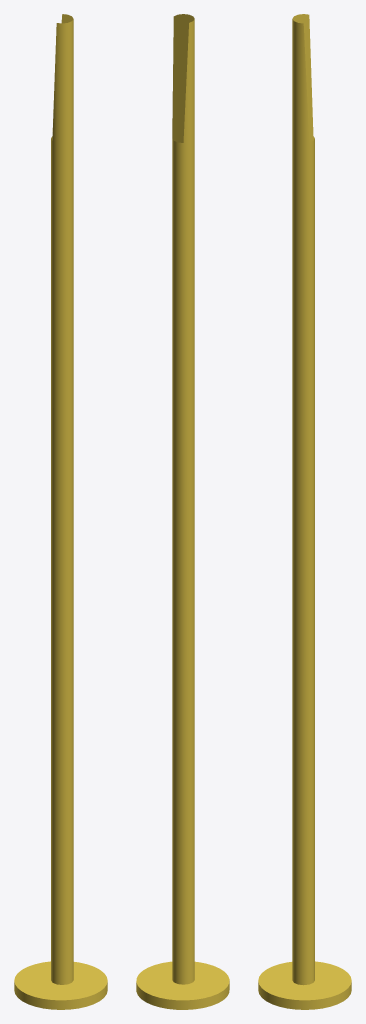
File: SpotLightSmall.fbx
3 renders of one model, left to right at view 1: azimuth 90°, elevation 25°; view 2: azimuth 150°, elevation 25°; view 3: azimuth 270°, elevation 25°, orthographic.
Parts seen in each view (by area): view 1: Cylinder.003; view 2: Cylinder.003; view 3: Cylinder.003.
Boxes of the visible parts, x1=… form: Cylinder.003: x1=14, y1=14, x2=107, y2=1009; Cylinder.003: x1=136, y1=14, x2=229, y2=1009; Cylinder.003: x1=258, y1=14, x2=351, y2=1009.
Bounding box in the file's own units: 21.21 × 243 × 21.21.
